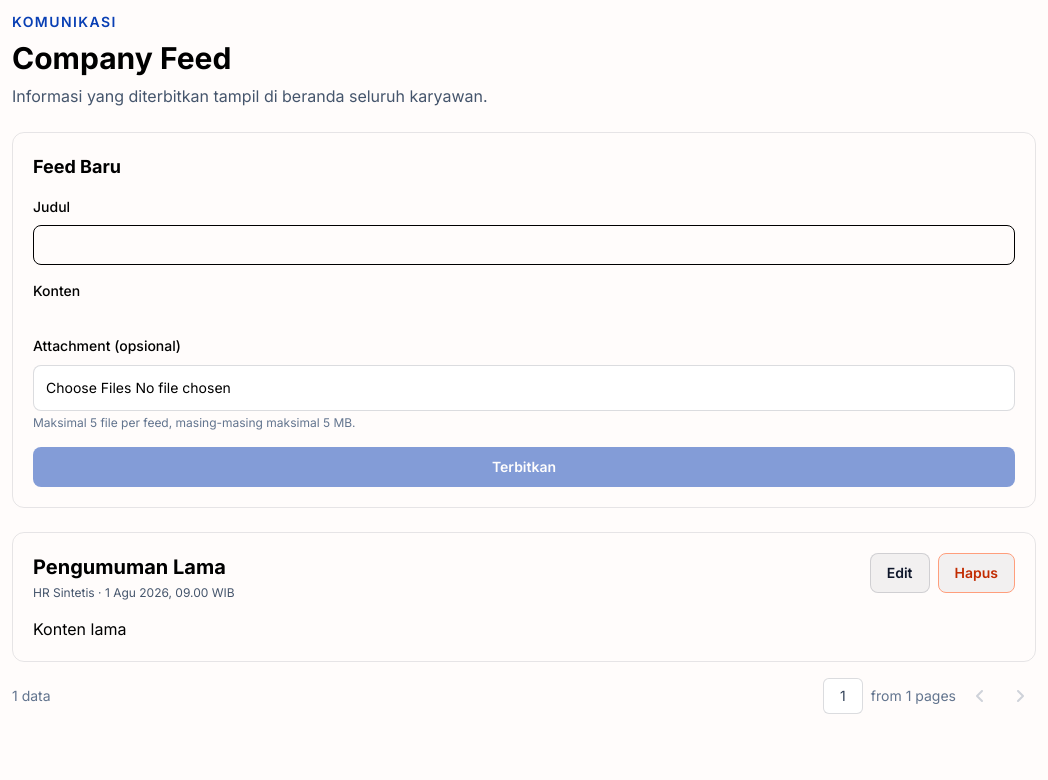
CompanyFeedPage › cancels edit mode without submitting
The width and height of the screenshot is (1048, 780).
Click the button "Edit" at (900, 573), box 870,553 -> 930,593
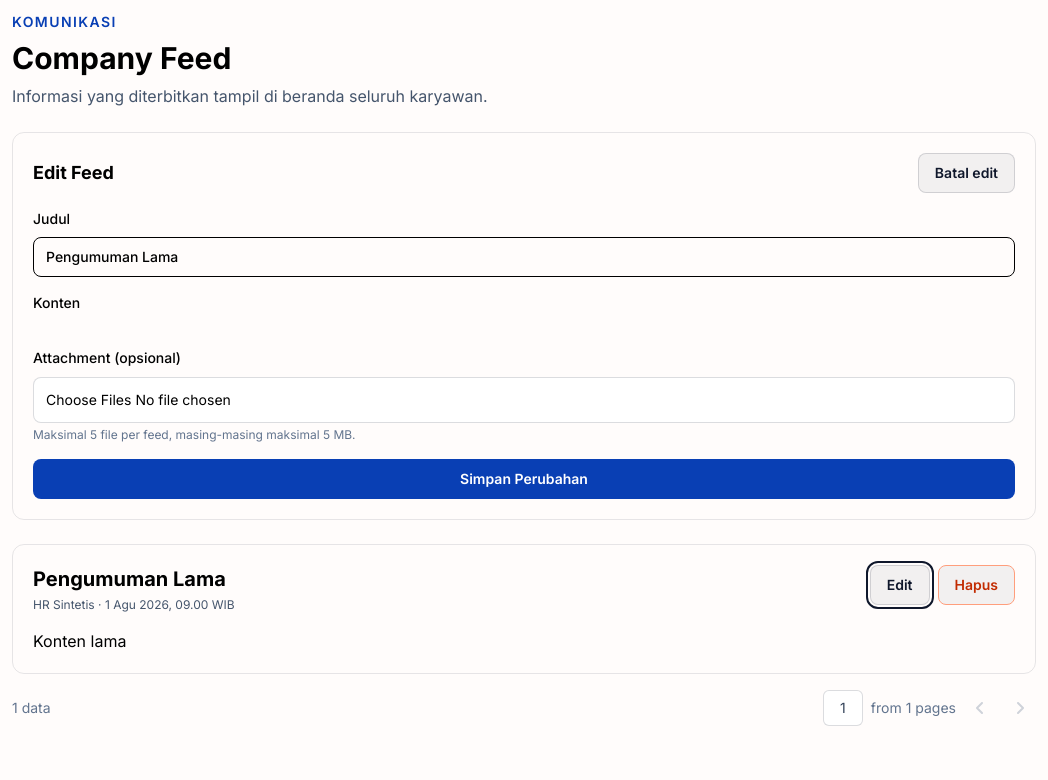
expect the heading "Edit Feed" is shown: met, box 33,159 -> 114,187
Click the button "Batal edit" at (966, 173), box 918,153 -> 1015,193
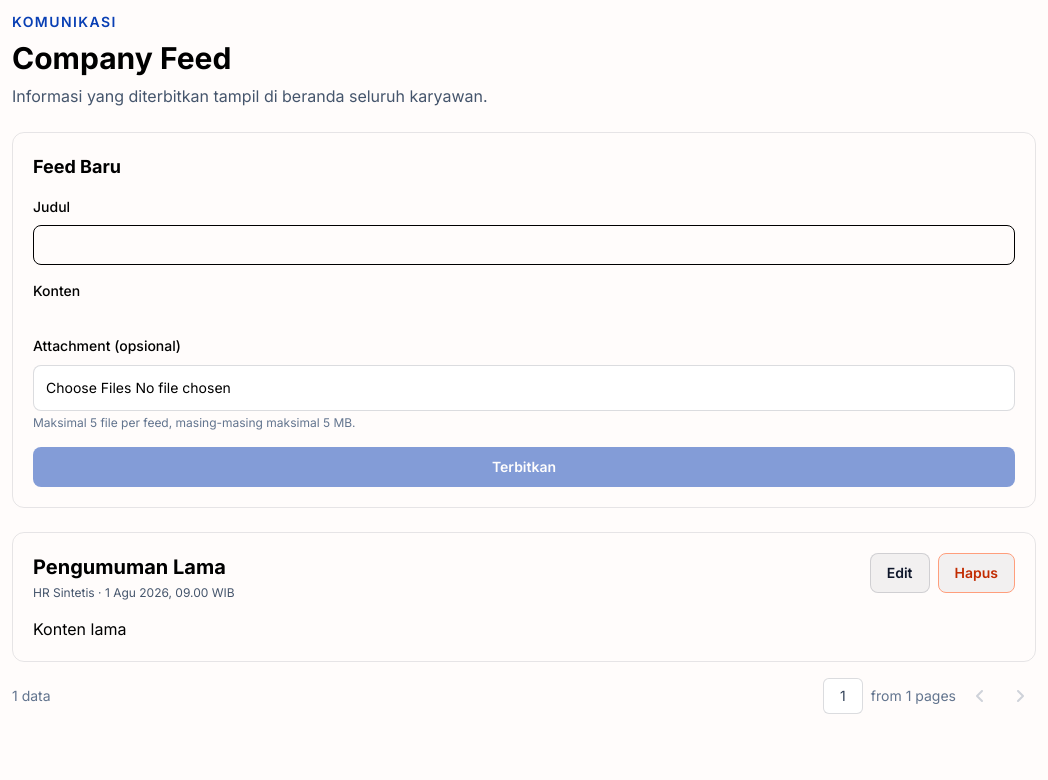
expect the heading "Feed Baru" is shown: met, box 33,153 -> 121,181
expect the field labelled "Judul" is empty: met, box 33,225 -> 1015,265
